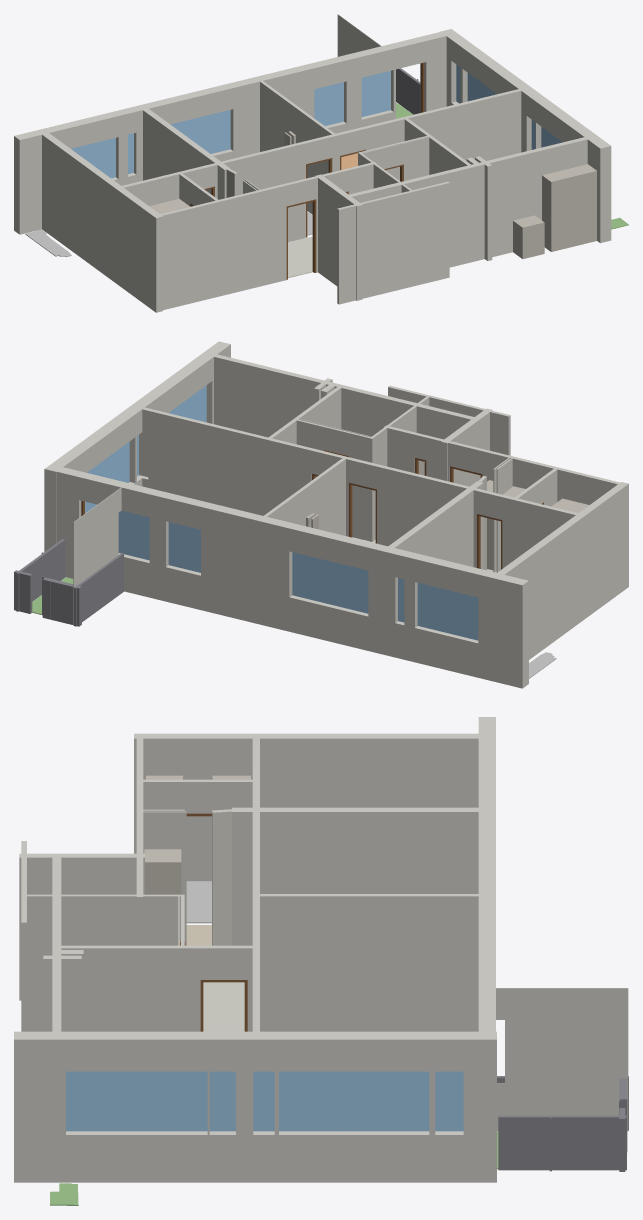
The picture shows the model from 3 angles, top to bottom: view 1: azimuth 30°, elevation 25°; view 2: azimuth 150°, elevation 25°; view 3: azimuth 270°, elevation 25°; orthographic projection. The views are drawn at different scales.
Visible parts, largest first — view 1: walls, furniture_9_closet, window_5, furniture_13_appliance, window_11, window_13, window_6, railings, floor_5_Undefined, door_7, floor_12_Bed_Room, window_3; view 2: walls, railings, window_5, window_6, window_13, window_11, window_3, window_1; view 3: walls, window_3, window_1, railings, floor_5_Undefined, window_15, furniture_5_closet, window_9, window_16, floor_3_Storage.
Part boxes in pixels (x1,y1,x2,y2): walls: [14, 14, 611, 312]; furniture_9_closet: [542, 164, 596, 251]; window_5: [170, 110, 230, 153]; furniture_13_appliance: [513, 215, 544, 258]; window_11: [361, 70, 390, 116]; window_13: [314, 82, 343, 125]; window_6: [71, 138, 115, 178]; railings: [396, 68, 420, 114]; floor_5_Undefined: [288, 236, 312, 277]; door_7: [286, 199, 316, 279]; floor_12_Bed_Room: [25, 229, 71, 257]; window_3: [467, 73, 496, 101]; walls: [44, 341, 628, 688]; railings: [14, 539, 123, 626]; window_5: [292, 552, 368, 613]; window_6: [417, 583, 478, 640]; window_13: [168, 522, 200, 572]; window_11: [118, 510, 149, 560]; window_3: [85, 441, 129, 513]; window_1: [168, 385, 206, 422]; walls: [14, 717, 628, 1182]; window_3: [279, 1071, 429, 1131]; window_1: [66, 1071, 207, 1131]; railings: [497, 1076, 628, 1171]; floor_5_Undefined: [203, 982, 244, 1031]; window_15: [435, 1071, 463, 1131]; furniture_5_closet: [144, 849, 181, 894]; window_9: [209, 1071, 235, 1131]; window_16: [253, 1071, 274, 1131]; floor_3_Storage: [186, 882, 211, 923].
Bounding box in the file's own units: 13.96 × 2.72 × 10.52.
